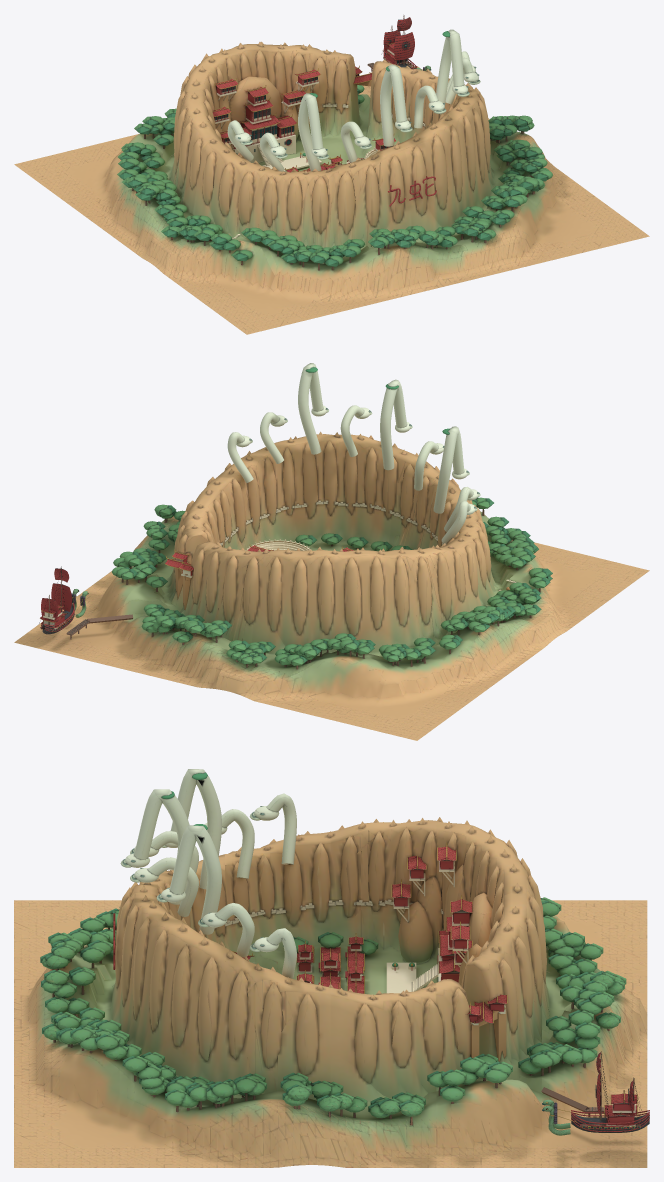
File: amazon-lily.glb
3 views of the same model, one above another, from view 1: azimuth 30°, elevation 25°; view 2: azimuth 150°, elevation 25°; view 3: azimuth 270°, elevation 25° (orthographic). The views are drawn at different scales.
Parts seen in each view (by area): view 1: terrain-district-2-4, terrain-district-1-3, terrain-district-2-3, terrain-district-0-2, terrain-district-2-1, sculpture-district-2-2, terrain-district-1-2, terrain-district-0-3, terrain-district-1-4, terrain-district-3-3, architecture-district-2-1, terrain-district-3-4 (+24 smaller); view 2: terrain-district-2-0, terrain-district-2-3, terrain-district-1-1, terrain-district-0-2, sculpture-district-2-2, terrain-district-3-2, terrain-district-2-1, terrain-district-1-0, terrain-district-3-3, terrain-district-1-2, terrain-district-0-1, terrain-district-3-1 (+21 smaller); view 3: terrain-district-4-2, terrain-district-1-2, terrain-district-3-3, terrain-district-3-2, sculpture-district-2-2, terrain-district-3-1, terrain-district-4-1, terrain-district-2-1, terrain-district-1-1, terrain-district-3-4, terrain-district-2-4, terrain-district-4-3 (+29 smaller).
Part boxes in pixels (left/top/right/bottom): terrain-district-2-4: left=344, top=134, right=514, bottom=301; terrain-district-1-3: left=238, top=160, right=355, bottom=275; terrain-district-2-3: left=318, top=110, right=468, bottom=249; terrain-district-0-2: left=92, top=121, right=234, bottom=277; terrain-district-2-1: left=203, top=42, right=355, bottom=163; sculpture-district-2-2: left=227, top=29, right=473, bottom=171; terrain-district-1-2: left=170, top=88, right=278, bottom=237; terrain-district-0-3: left=169, top=235, right=274, bottom=306; terrain-district-1-4: left=275, top=256, right=380, bottom=318; terrain-district-3-3: left=438, top=87, right=543, bottom=221; architecture-district-2-1: left=233, top=69, right=322, bottom=171; terrain-district-3-4: left=484, top=201, right=582, bottom=269; terrain-district-2-0: left=148, top=555, right=318, bottom=707; terrain-district-2-3: left=307, top=434, right=460, bottom=551; terrain-district-1-1: left=308, top=546, right=431, bottom=675; terrain-district-0-2: left=432, top=538, right=571, bottom=683; sculpture-district-2-2: left=227, top=363, right=473, bottom=544; terrain-district-3-2: left=163, top=447, right=297, bottom=587; terrain-district-2-1: left=195, top=542, right=345, bottom=655; terrain-district-1-0: left=283, top=652, right=388, bottom=724; terrain-district-3-3: left=246, top=431, right=340, bottom=535; terrain-district-1-2: left=385, top=521, right=498, bottom=646; terrain-district-0-1: left=389, top=648, right=494, bottom=712; terrain-district-3-1: left=120, top=511, right=228, bottom=627; terrain-district-4-2: left=225, top=982, right=436, bottom=1167; terrain-district-1-2: left=225, top=820, right=436, bottom=970; terrain-district-3-3: left=119, top=912, right=261, bottom=1119; terrain-district-3-2: left=225, top=947, right=436, bottom=1098; sculpture-district-2-2: left=134, top=769, right=296, bottom=978; terrain-district-3-1: left=391, top=936, right=541, bottom=1104; terrain-district-4-1: left=436, top=1080, right=541, bottom=1167; terrain-district-2-1: left=436, top=837, right=541, bottom=1055; terrain-district-1-1: left=395, top=817, right=517, bottom=963; terrain-district-3-4: left=14, top=1043, right=119, bottom=1123; terrain-district-2-4: left=14, top=882, right=138, bottom=1078; terrain-district-4-3: left=119, top=1094, right=224, bottom=1167.
Bounding box in the file's own units: 600 × 267 × 602.
1 material, 1 textured.
